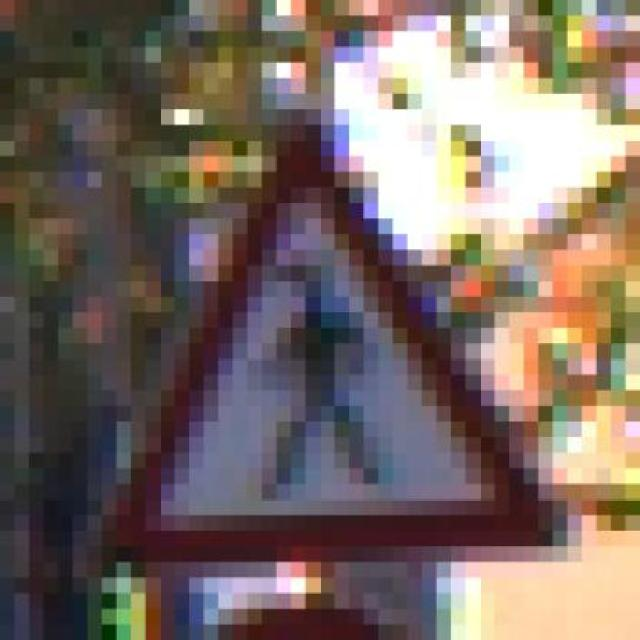Pedestrian Crossing: (58, 118, 596, 571)
